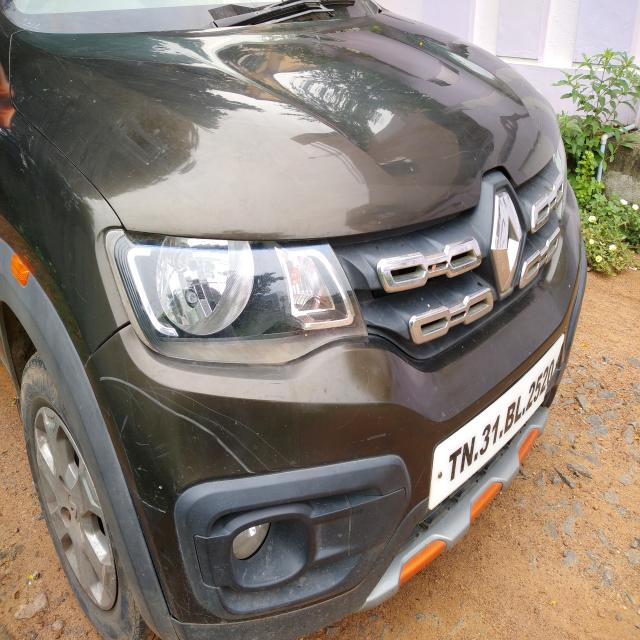scratch: (87, 366, 300, 476), (160, 549, 213, 621), (0, 118, 39, 179), (70, 283, 99, 322), (411, 465, 430, 495), (357, 432, 390, 446), (444, 150, 473, 160), (443, 188, 449, 200)
